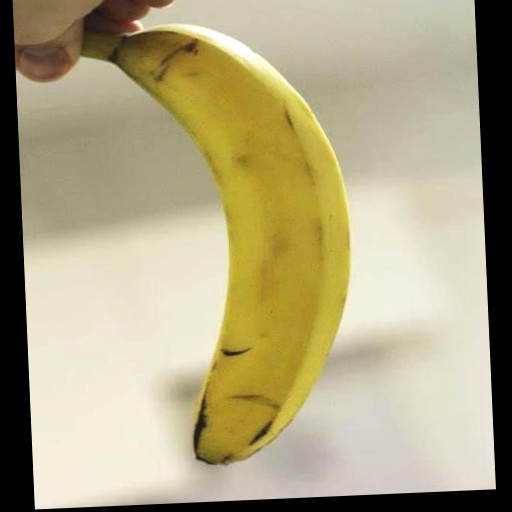fruit: (83, 26, 349, 464)
